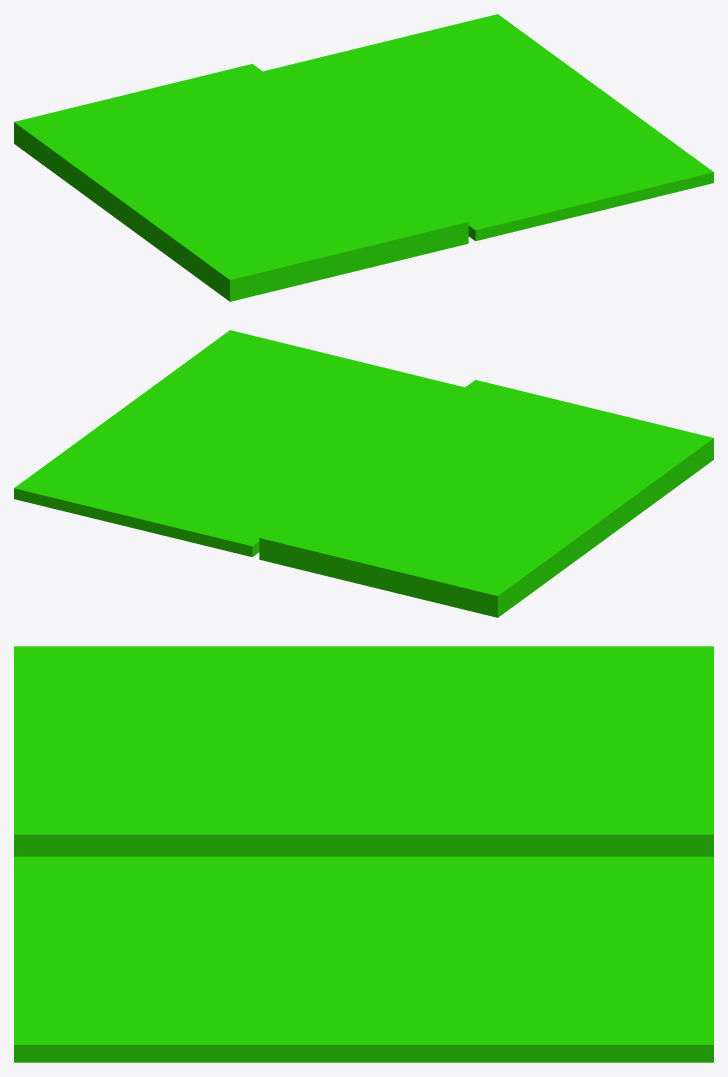
The model's file is Note_Book_03_Lod0.fbx.
3 views of the same model, one above another, from view 1: azimuth 30°, elevation 25°; view 2: azimuth 150°, elevation 25°; view 3: azimuth 270°, elevation 25° (orthographic). The views are drawn at different scales.
Visible parts, largest first — view 1: Note_Book_03_Lod0; view 2: Note_Book_03_Lod0; view 3: Note_Book_03_Lod0.
Part boxes in pixels (x1,y1,x2,y2): Note_Book_03_Lod0: (14,14,713,301); Note_Book_03_Lod0: (14,330,713,617); Note_Book_03_Lod0: (14,646,713,1062).
Bounding box in the file's own units: 25.48 × 1.1 × 19.71.
